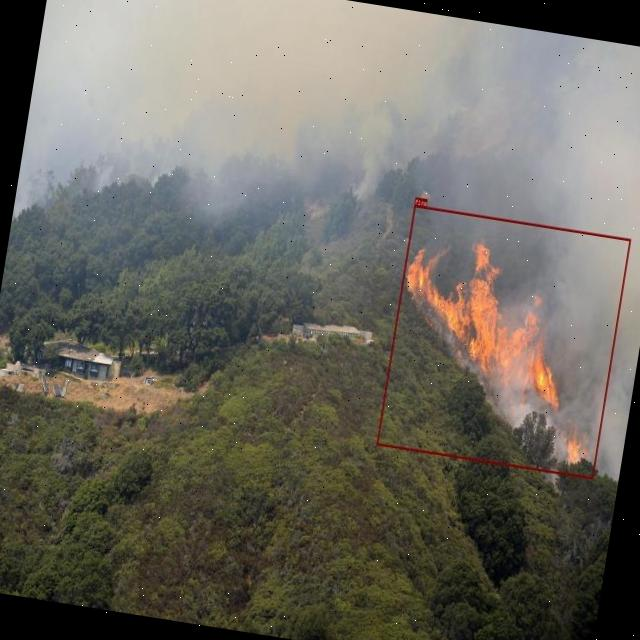fire: (377, 205, 630, 480)
